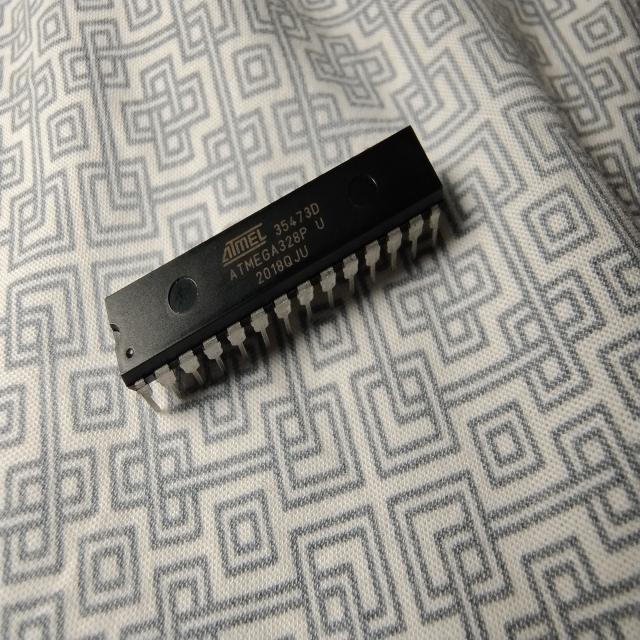atmega: (102, 122, 448, 415)
